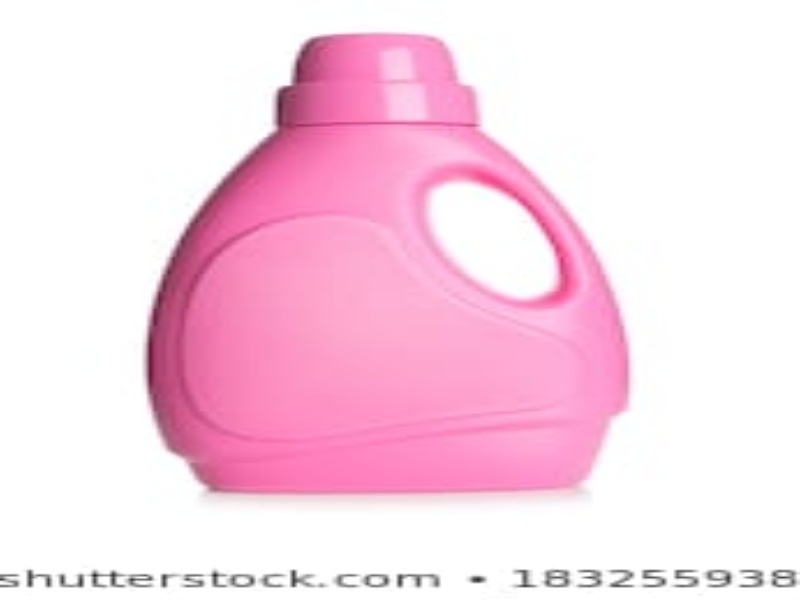detergent-bottle: (140, 25, 633, 501)
